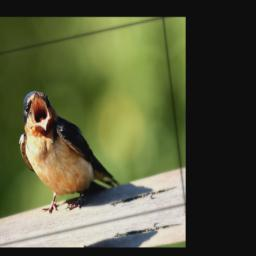Swallow: (12, 74, 122, 221)
